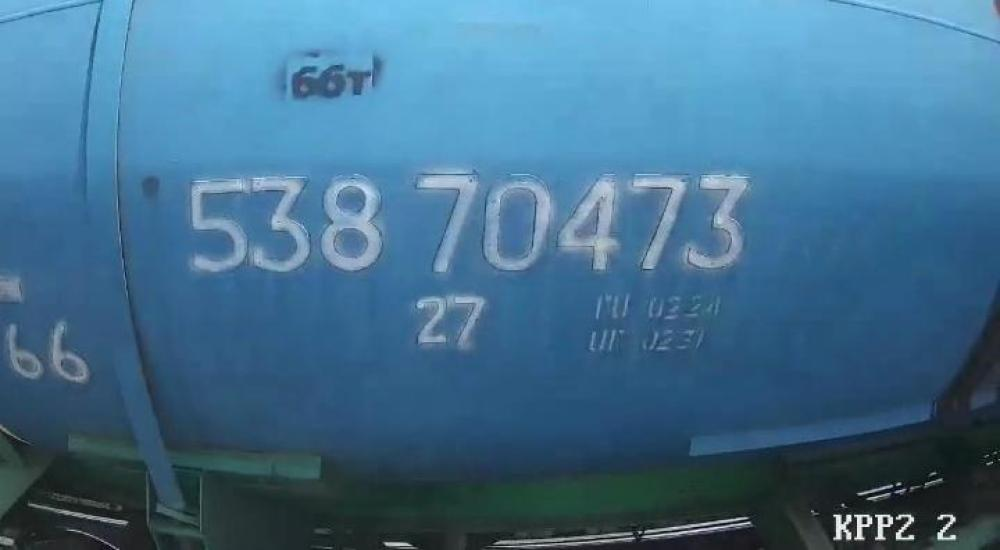Wagon-number: (182, 167, 752, 282)
